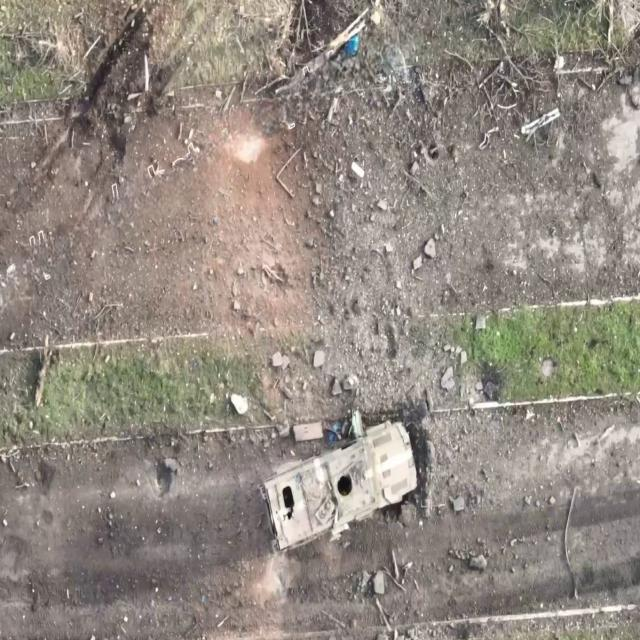Vehicle: (265, 421, 416, 554)
